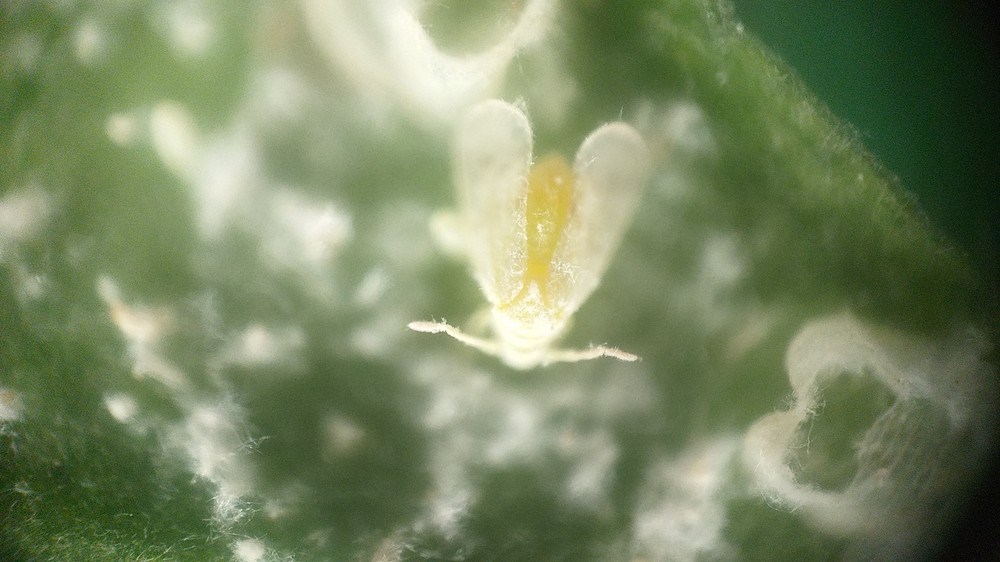Mosca Blanca: (405, 93, 659, 393)
